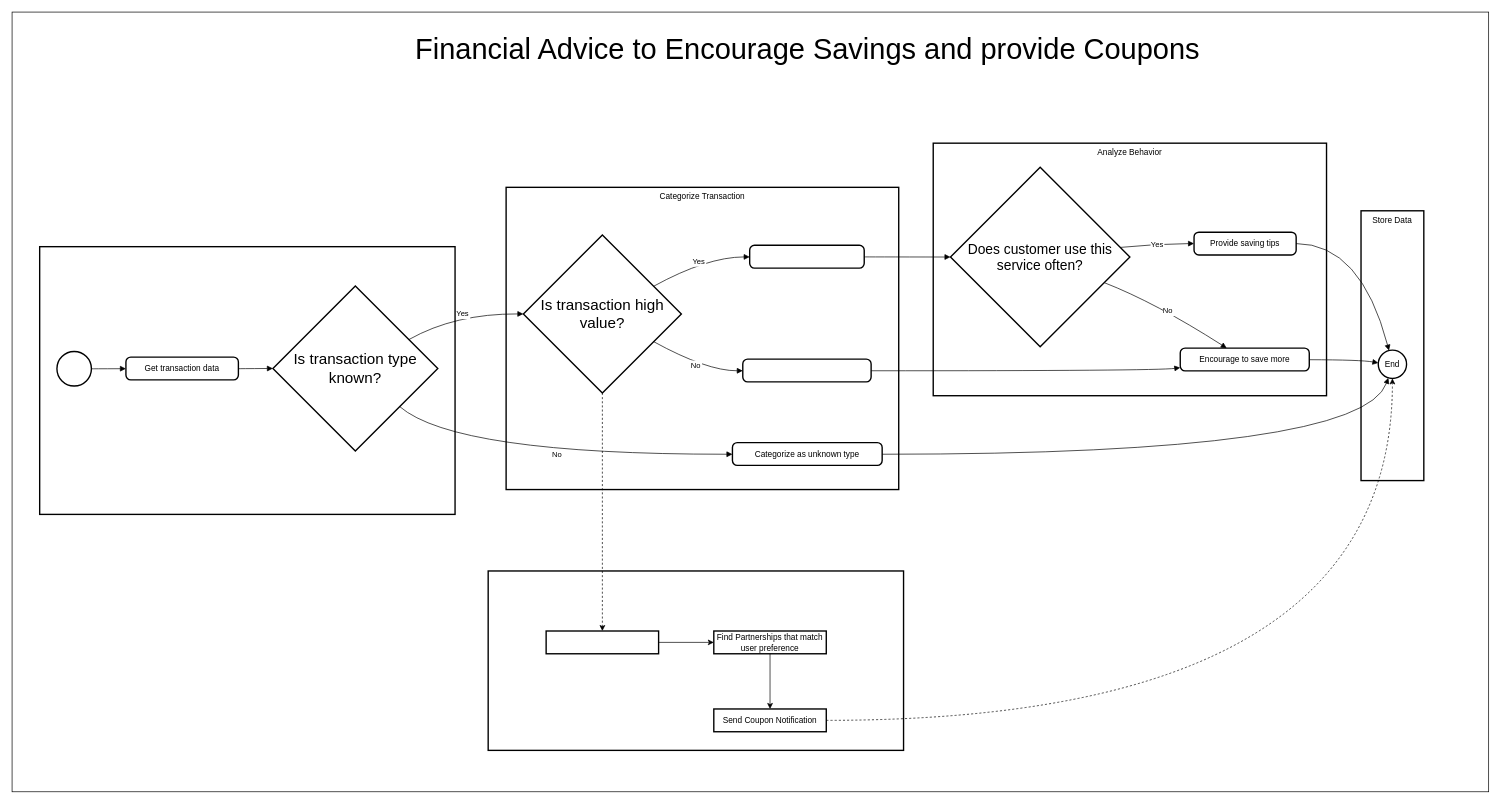
Some shapes in this 1501 by 804 pixel diagram are drawn without their labels. The shapes that lost their labels are listed below. From the top down, each one's box as (x1, y1, x2, y2) in pixels, then its label:
(749, 244, 865, 268): Process as high value
(56, 351, 92, 386): Start
(39, 246, 455, 515): Collect Data
(742, 358, 871, 382): Process as regular value
(545, 630, 659, 654): Categorize Spending by item
(487, 570, 904, 751): Categorize Coupons
